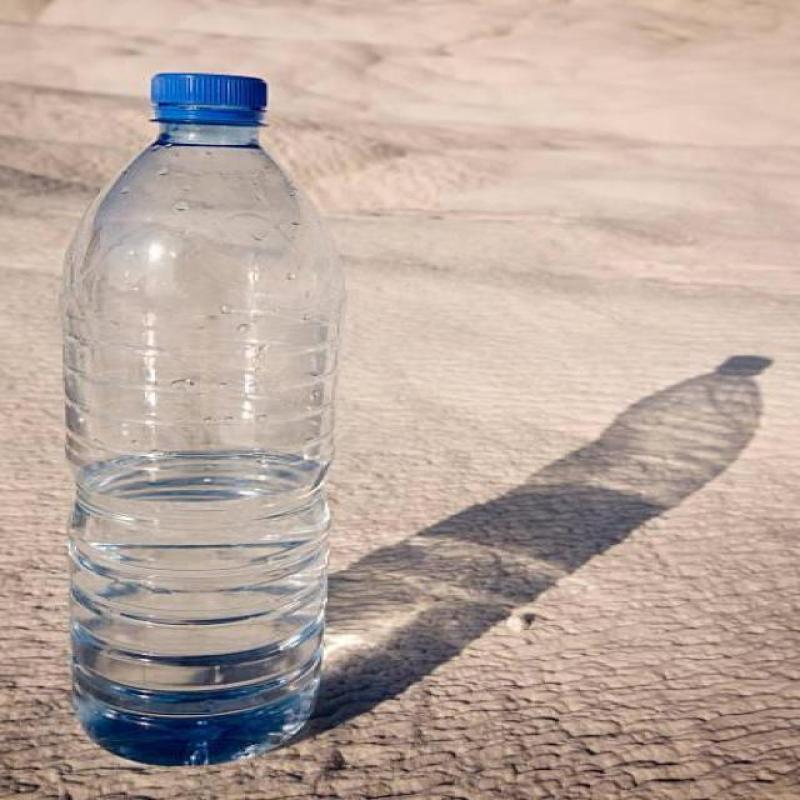botella: (54, 70, 335, 762)
